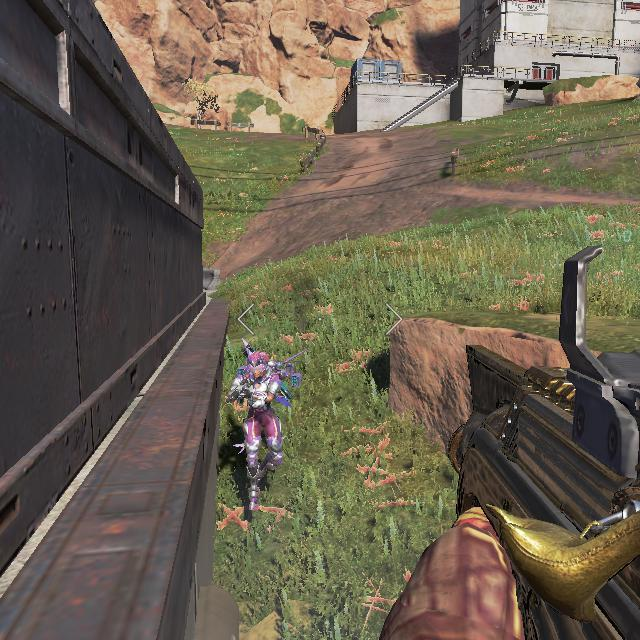avatar: (224, 348, 287, 513)
